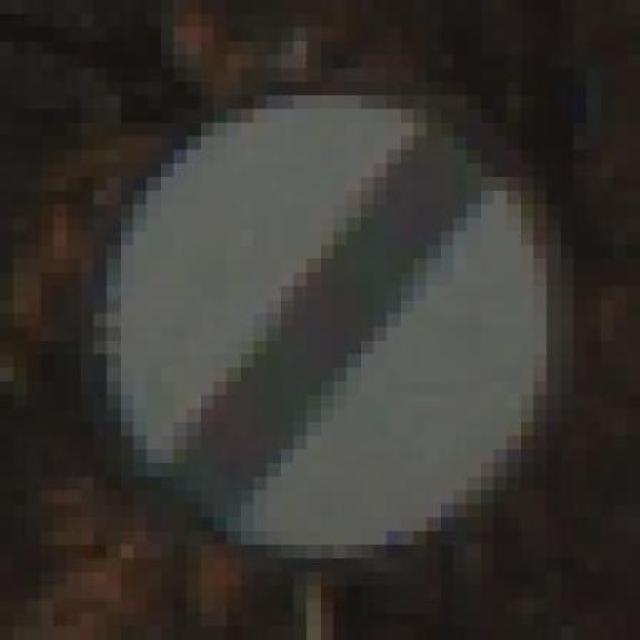End of all speed and passing limits: (67, 54, 547, 572)
